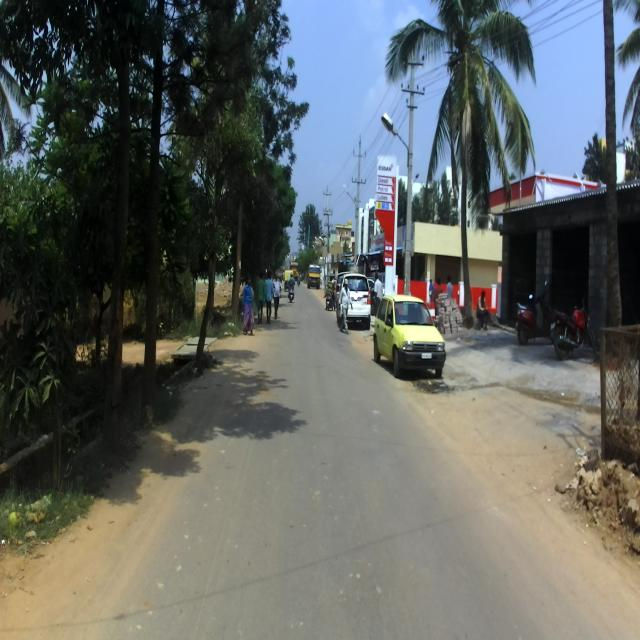car ahead at: (373, 289, 448, 385)
tree ahead at: (100, 52, 135, 434), (140, 60, 170, 414)
